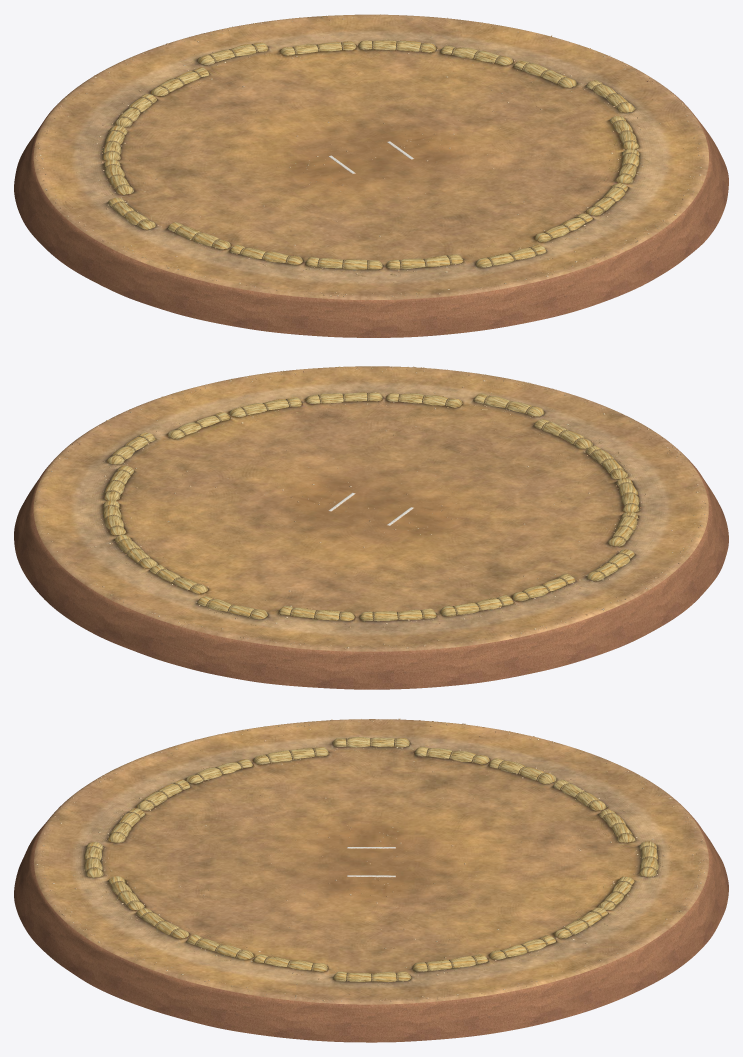
File: dohyo.glb
3 views of the same model, one above another, from view 1: azimuth 30°, elevation 25°; view 2: azimuth 150°, elevation 25°; view 3: azimuth 270°, elevation 25° (orthographic).
Visible parts, largest first — view 1: Mound, Tawara, Sand; view 2: Mound, Tawara, Sand; view 3: Mound, Tawara, Sand.
Part boxes in pixels (x1,y1,x2,y2): Mound: (14,14,728,337); Tawara: (98,38,648,276); Sand: (35,14,703,297); Mound: (14,366,728,689); Tawara: (92,392,646,625); Sand: (35,366,705,649); Mound: (14,719,728,1042); Tawara: (73,736,671,988); Sand: (36,718,706,1002).
Bounding box in the file's own units: 13.13 × 0.7402 × 13.13.
Materials: 6 (6 with a texture image).
